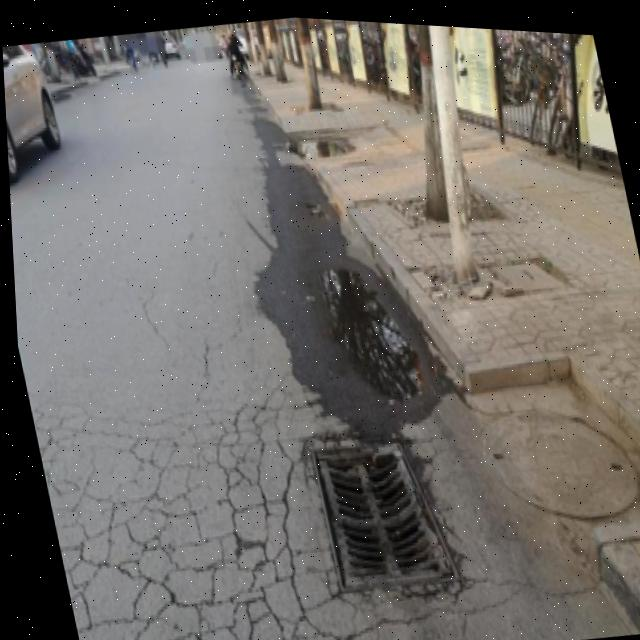manhole: (286, 405, 457, 606)
